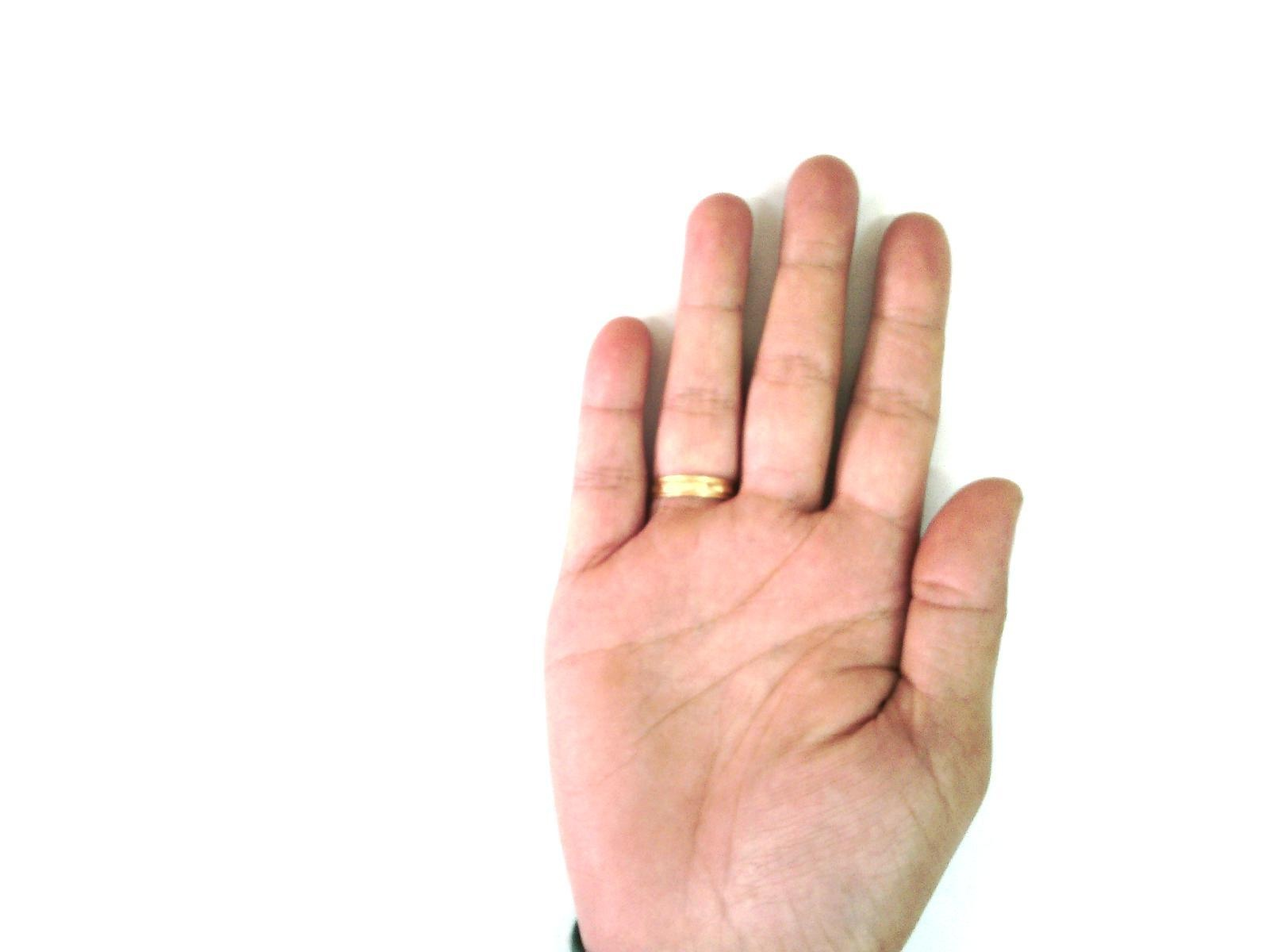open_palm: (539, 154, 1026, 951)
